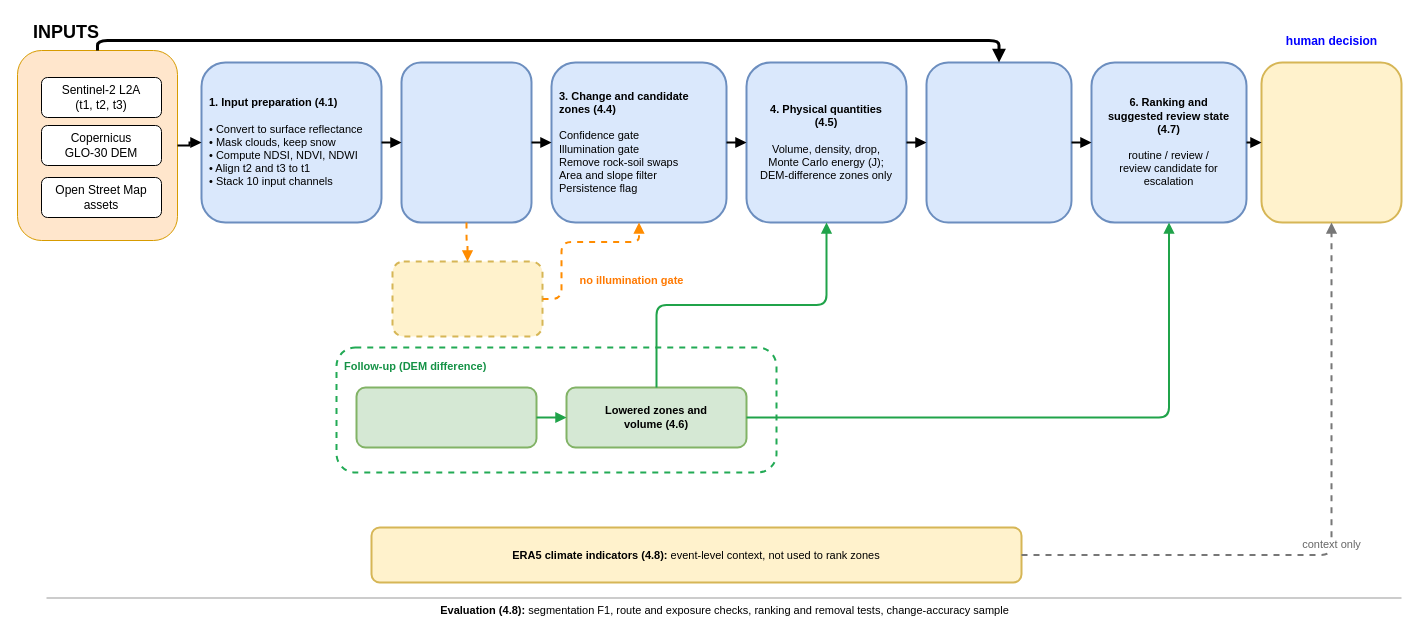
The diagram is 1420 pixels wide and 644 high, and some of its shapes have lost their labels. Each missing label, with the centre of its shape:
2 m DEM difference (4.6): the point at 446,417
2. Surface mapping (4.2–4.3) U-Net, six classes (water unlabeled): the point at 466,142
5. Route and exposure (4.7) D8 route, 250 m corridor, assets: the point at 998,142
Rule baseline (fixed thresholds): the point at 467,298
Specialist review: the point at 1331,142
